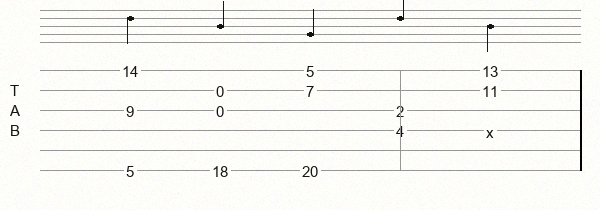0: (216, 83, 228, 98), (216, 103, 228, 118)
11: (482, 83, 502, 98)
13: (482, 63, 502, 78)
14: (122, 63, 142, 78)
18: (212, 163, 232, 178)
2: (396, 103, 408, 118)
20: (302, 163, 322, 178)
4: (396, 123, 408, 138)
5: (126, 163, 138, 178), (306, 63, 318, 78)
7: (306, 83, 318, 98)
9: (126, 103, 138, 118)
x: (486, 124, 498, 136)
